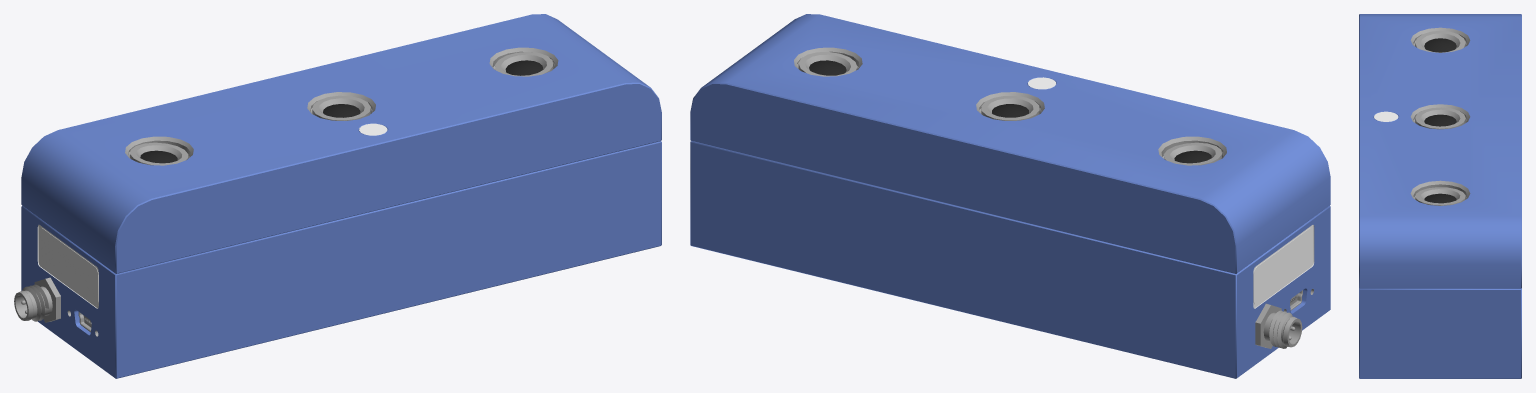
File: ensenso.dae
3 views of the same model, side by side, from view 1: azimuth 30°, elevation 25°; view 2: azimuth 150°, elevation 25°; view 3: azimuth 270°, elevation 25° (orthographic). The views are drawn at different scales.
Visible parts, largest first — view 1: ensenso_n35; view 2: ensenso_n35; view 3: ensenso_n35.
Part boxes in pixels (<box>): ensenso_n35: <box>14,14,661,378</box>; ensenso_n35: <box>690,14,1330,378</box>; ensenso_n35: <box>1359,14,1521,378</box>.
Bounding box in the file's own units: 0.1579 × 0.045 × 0.045.
